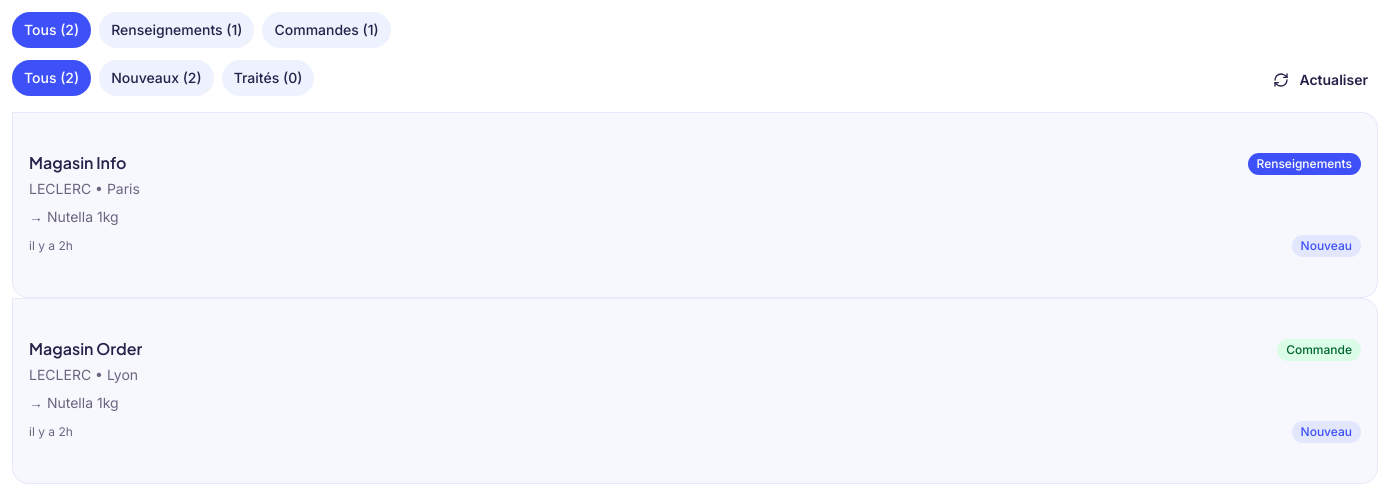
Test: SupplierRequestList › filters by type when type chip is clicked
This screenshot has width=1390, height=501.
What coordinates should you click on to do the following:
click the radio button "Commandes (1)"
I would click on:
 (327, 30)
Its box is [262,12,391,48].
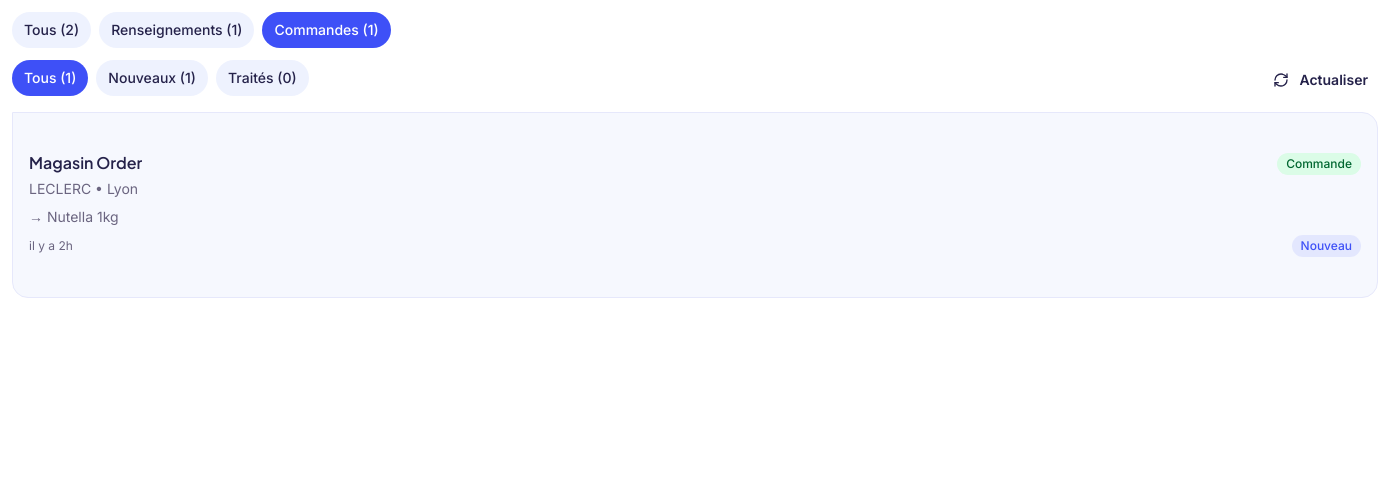
Check: the heading "Magasin Order" is shown, box [29,153,142,173]
Check: the link "Magasin Info" is gone
